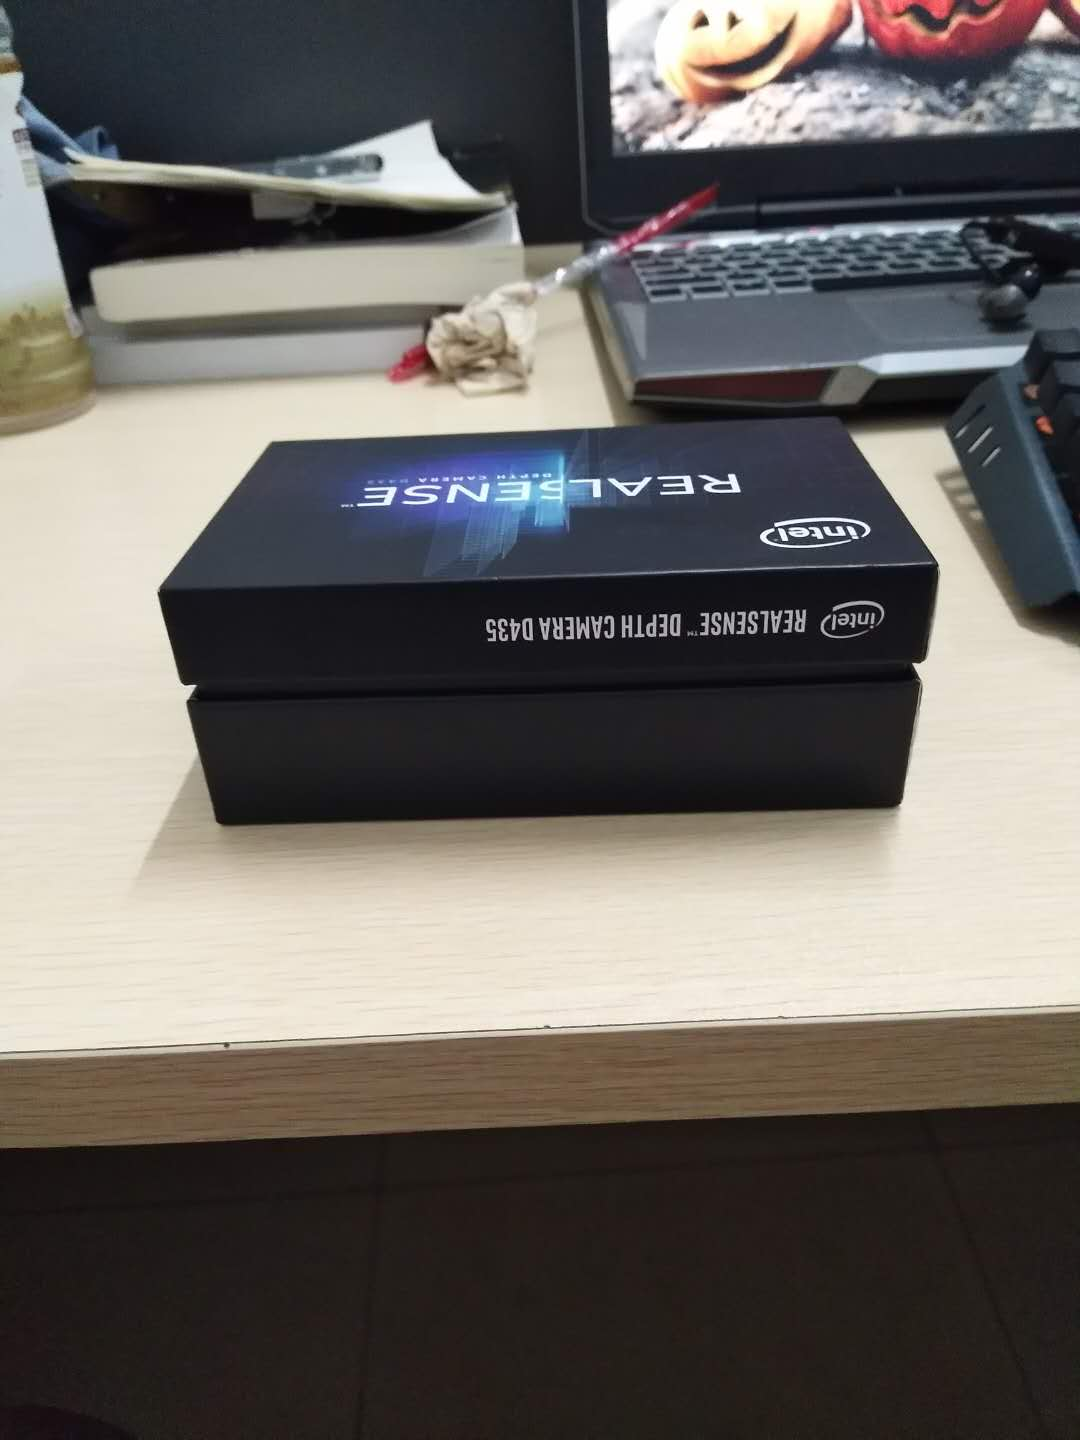box: (157, 420, 960, 821)
